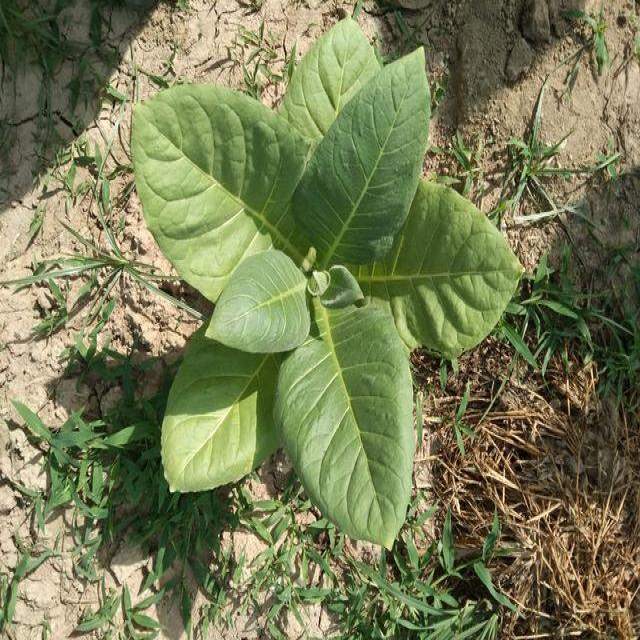crop: (130, 22, 532, 554)
